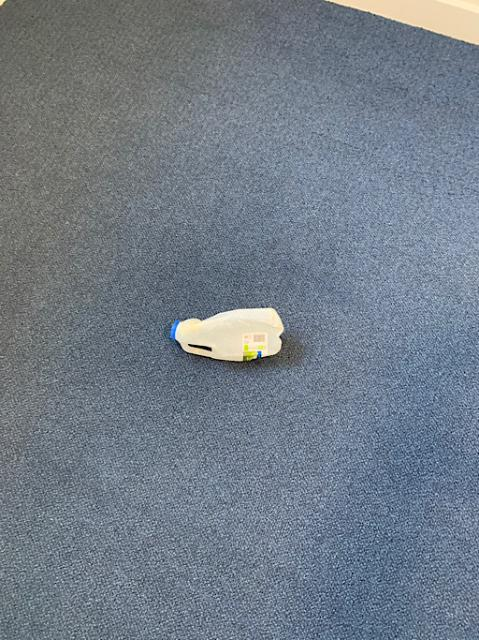plastic: (171, 307, 282, 359)
